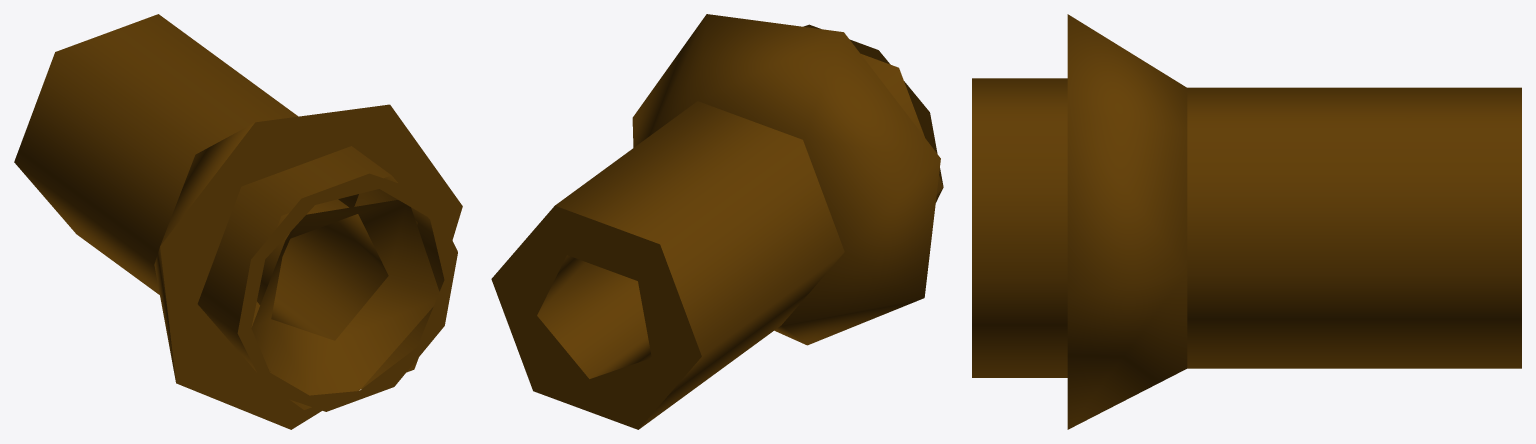
The model's file is Siete Roue dente_Inverseur petite detente.obj.
3 views of the same model, side by side, from view 1: azimuth 30°, elevation 25°; view 2: azimuth 150°, elevation 25°; view 3: azimuth 270°, elevation 25° (orthographic). The views are drawn at different scales.
Visible parts, largest first — view 1: Face_3, Face_5, Face_8, Face_6, Face_7, Face_2, Face_4; view 2: Face_4, Face_3, Face_1, Face_7, Face_6, Face_2; view 3: Face_3, Face_4, Face_6.
Part boxes in pixels (<box>): Face_3: <box>14,14,358,323</box>; Face_5: <box>160,104,462,429</box>; Face_8: <box>251,200,439,395</box>; Face_6: <box>197,146,444,409</box>; Face_7: <box>257,199,388,340</box>; Face_2: <box>237,173,457,411</box>; Face_4: <box>154,122,417,381</box>; Face_4: <box>632,14,940,345</box>; Face_3: <box>555,101,844,428</box>; Face_1: <box>491,206,701,429</box>; Face_7: <box>537,255,651,378</box>; Face_6: <box>861,54,943,194</box>; Face_2: <box>803,24,943,202</box>; Face_3: <box>1187,87,1521,368</box>; Face_4: <box>1067,14,1187,429</box>; Face_6: <box>972,78,1067,377</box>.
Bounding box in the file's own units: 0.00872 × 0.00871 × 0.0115.
